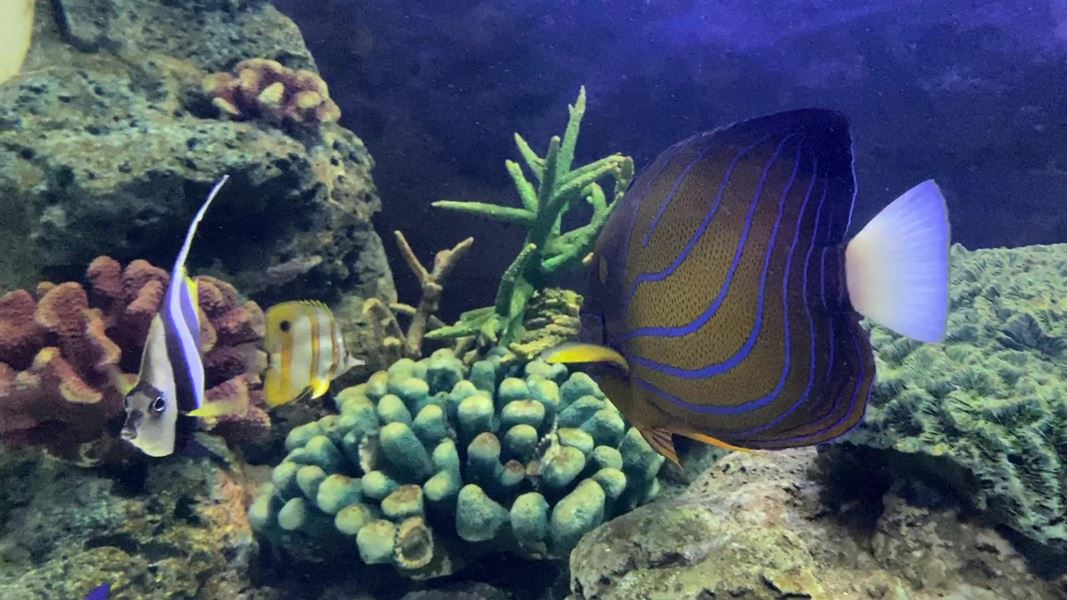Blue ring angelfish: (536, 95, 969, 481)
